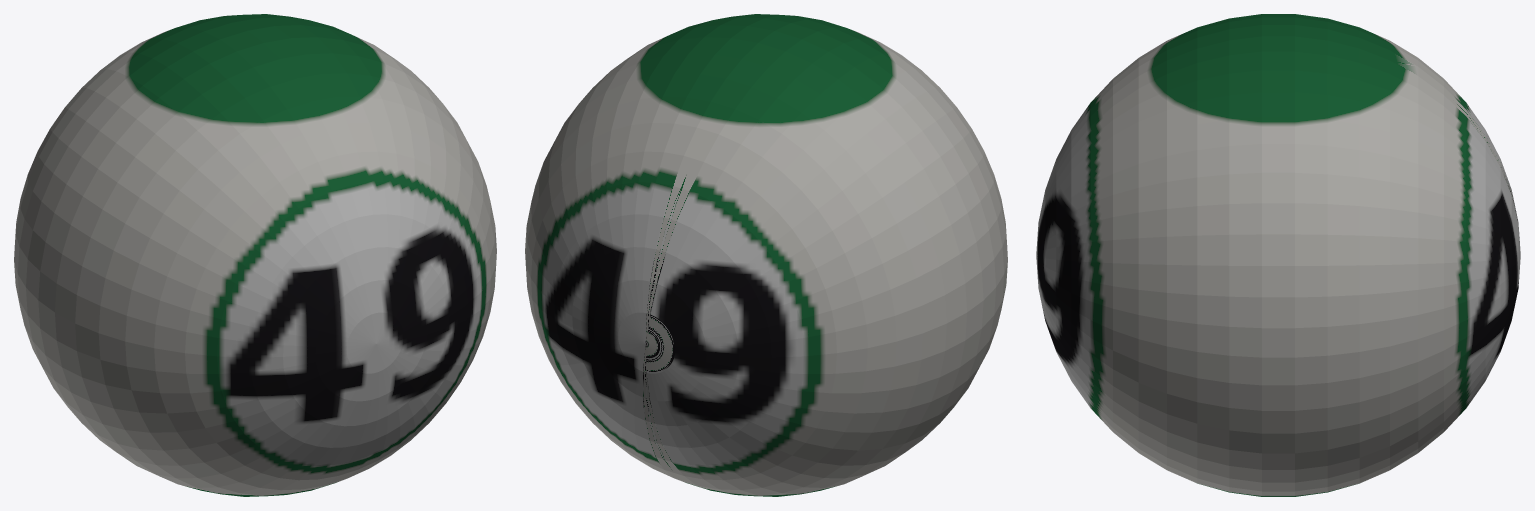
The picture shows the model from 3 angles, left to right: view 1: azimuth 30°, elevation 25°; view 2: azimuth 150°, elevation 25°; view 3: azimuth 270°, elevation 25°; orthographic projection.
Visible parts, largest first — view 1: geometry_0; view 2: geometry_0; view 3: geometry_0.
Boxes of the visible parts, x1,y1,x2,y2 form: geometry_0: (14, 14, 496, 496); geometry_0: (525, 14, 1007, 496); geometry_0: (1036, 14, 1520, 496).
Bounding box in the file's own units: 0.0599 × 0.0599 × 0.06.
1 material, 1 textured.
